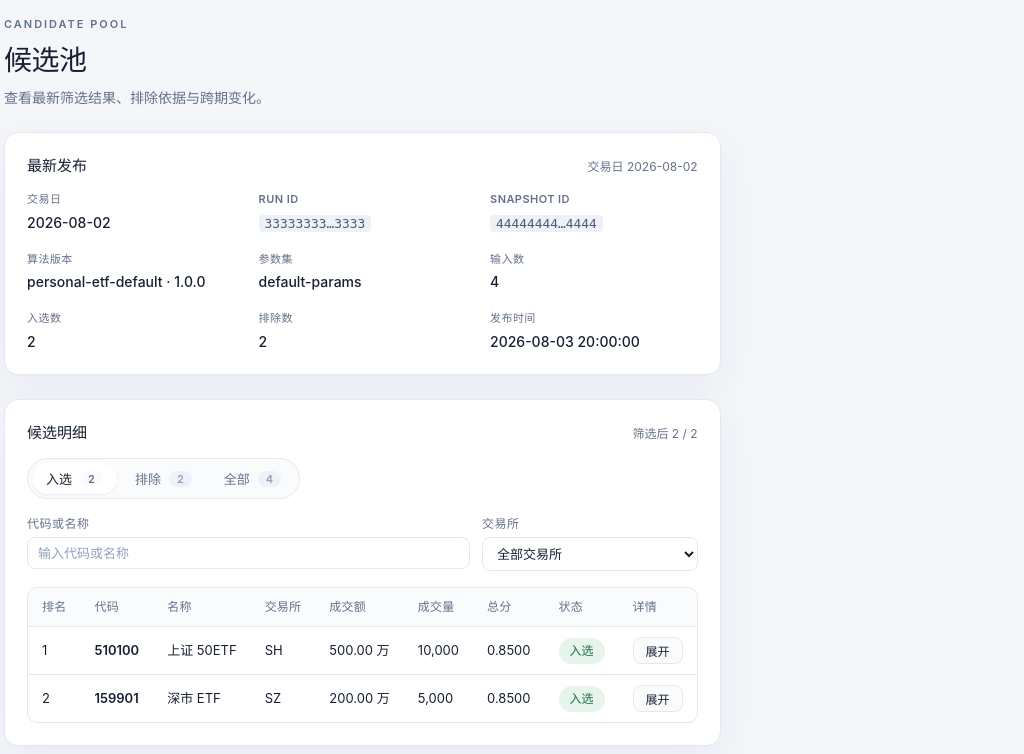
Test: CandidatePoolPage › filters › filters excluded items by reason code and shows the human-readable label
Click the tab "排除 2".
click(163, 479)  # box [121,463,206,494]
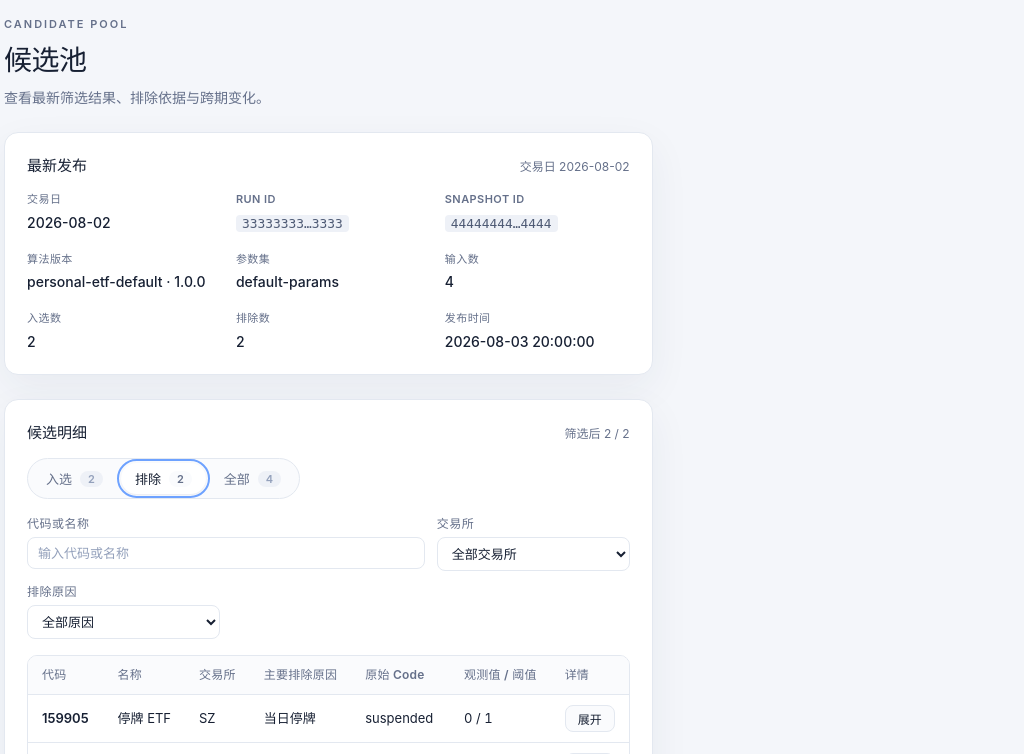
Select "成交量不足（low_volume）" in the dropdown labelled "排除原因" at (123, 622), box [27,605,220,639]
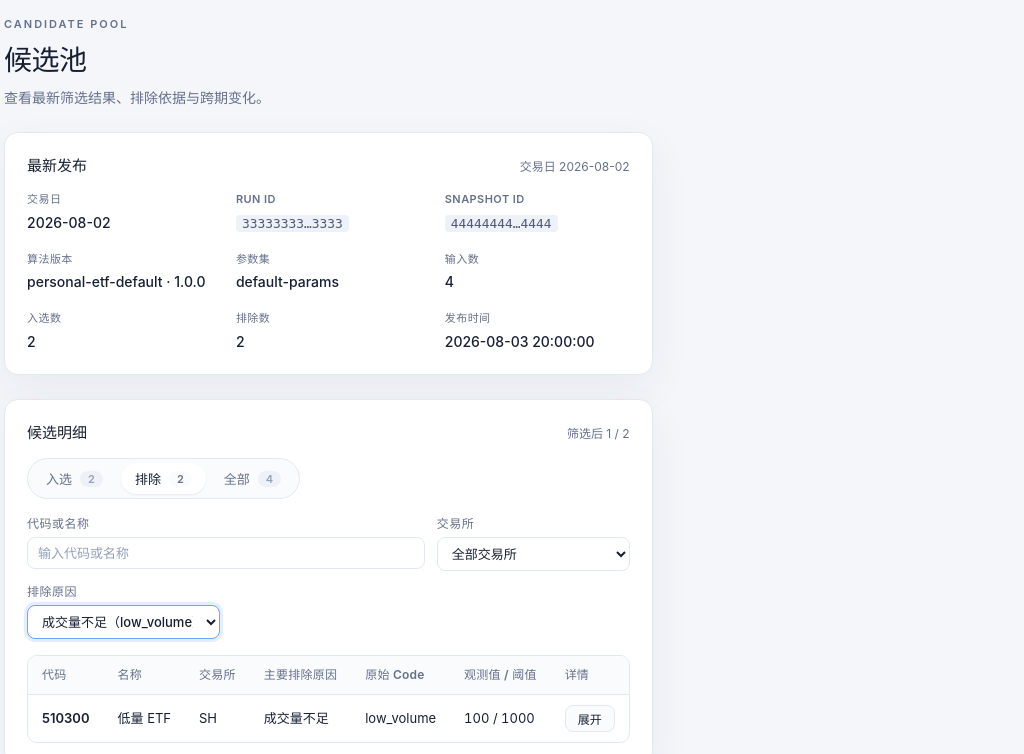
Now the row "510300 低量 ETF SH 成交量不足 low_volume 100 / 1000 展开" is shown, box [28,695,629,742]
Now the link "159905" is gone
# Switch to the suspended reason and only 159905 should remain.
Select "当日停牌（suspended）" in the dropdown labelled "排除原因" at (123, 622), box [27,605,220,639]
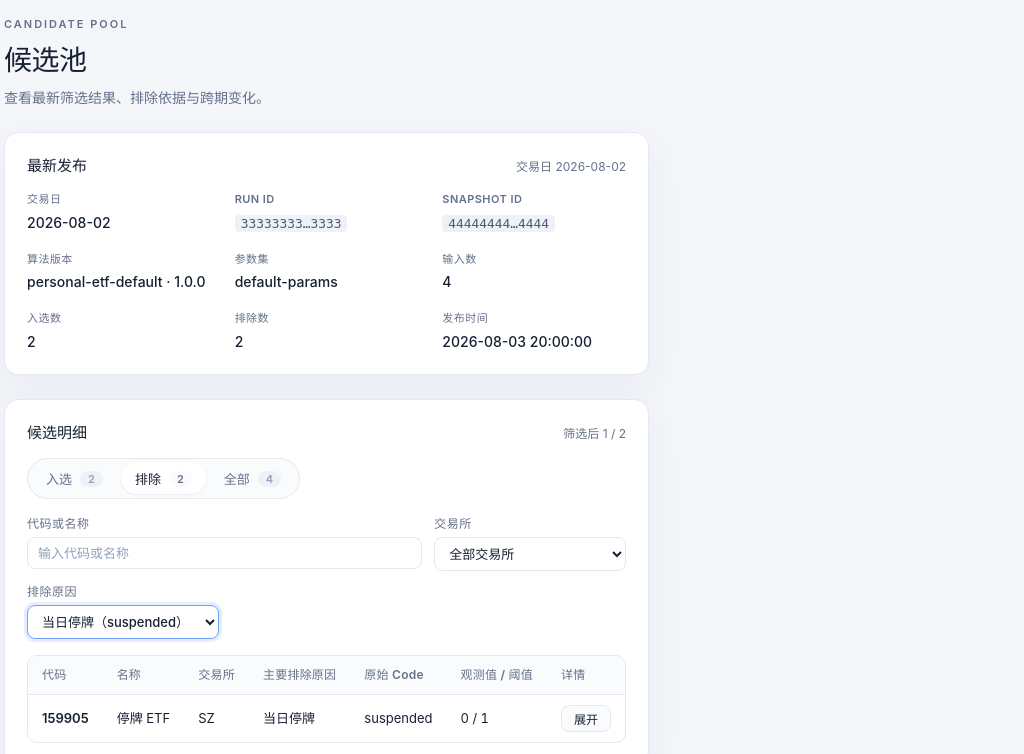
Now the row "159905 停牌 ETF SZ 当日停牌 suspended 0 / 1 展开" is shown, box [28,695,625,742]
Now the link "510300" is gone
